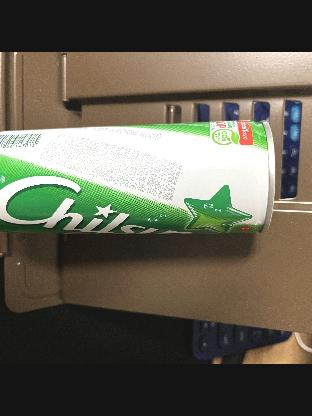Can: (0, 123, 274, 236)
